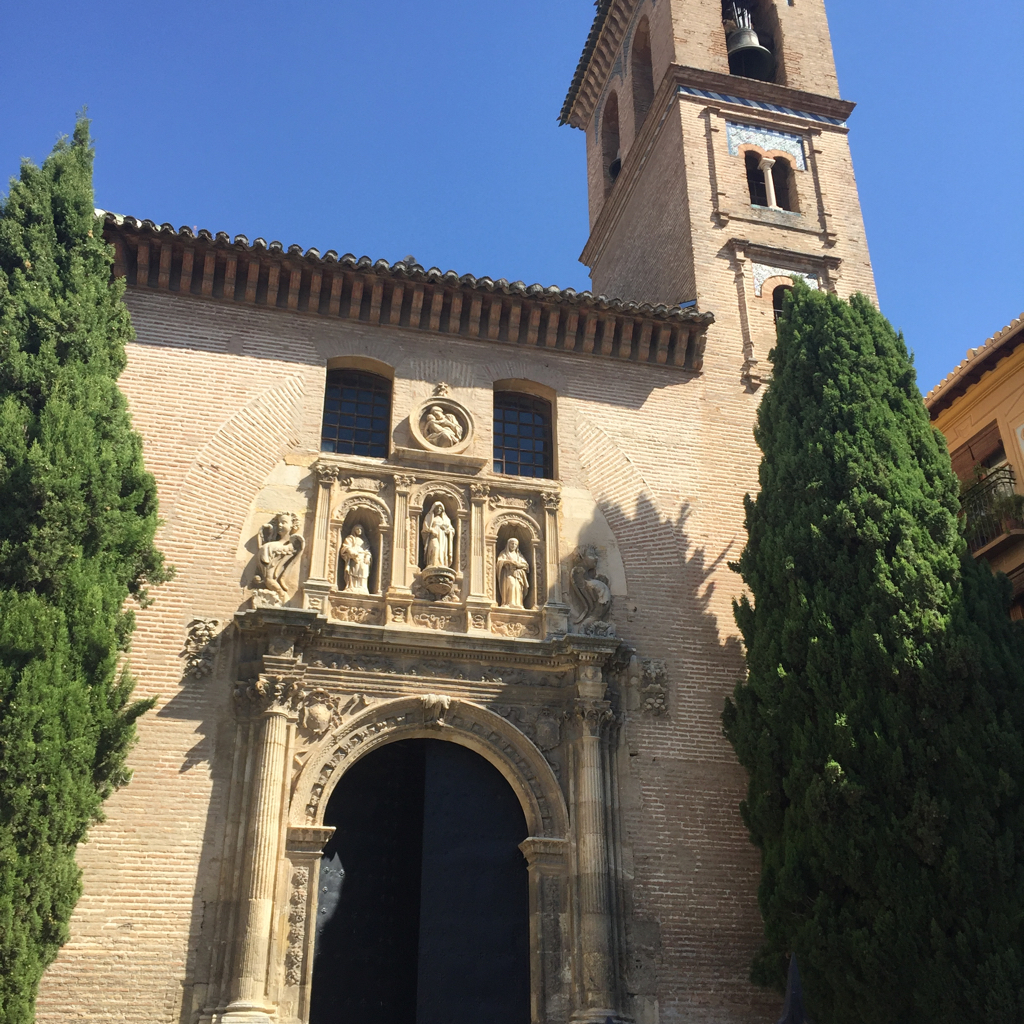arco-medio-punto: (309, 722, 552, 873)
